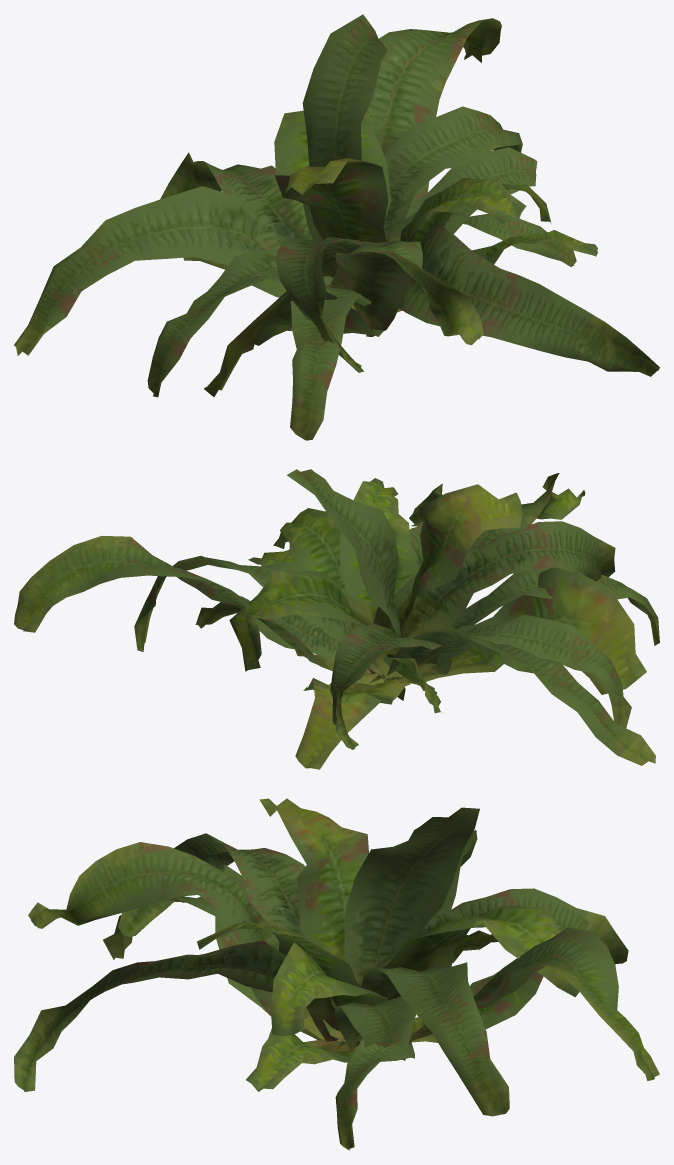
The model's file is samambaia_mata.glb.
The picture shows the model from 3 angles, top to bottom: view 1: azimuth 30°, elevation 25°; view 2: azimuth 150°, elevation 25°; view 3: azimuth 270°, elevation 25°; orthographic projection. The views are drawn at different scales.
Parts seen in each view (by area): view 1: fern_02_b; view 2: fern_02_b; view 3: fern_02_b.
Part boxes in pixels (<box>): fern_02_b: <box>14,14,659,440</box>; fern_02_b: <box>14,469,659,769</box>; fern_02_b: <box>14,798,659,1150</box>.
Size of the model in its own units: 0.9897 by 0.4277 by 0.8937.
Materials: 1 (1 with a texture image).
